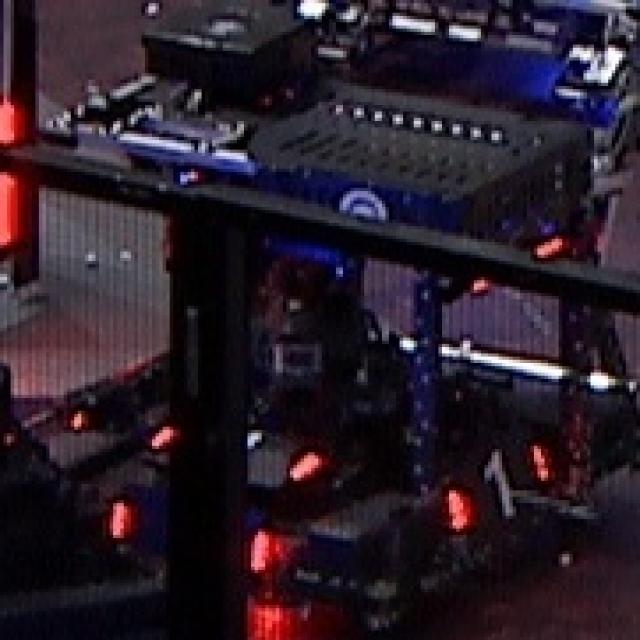R1: (435, 427, 555, 535)
